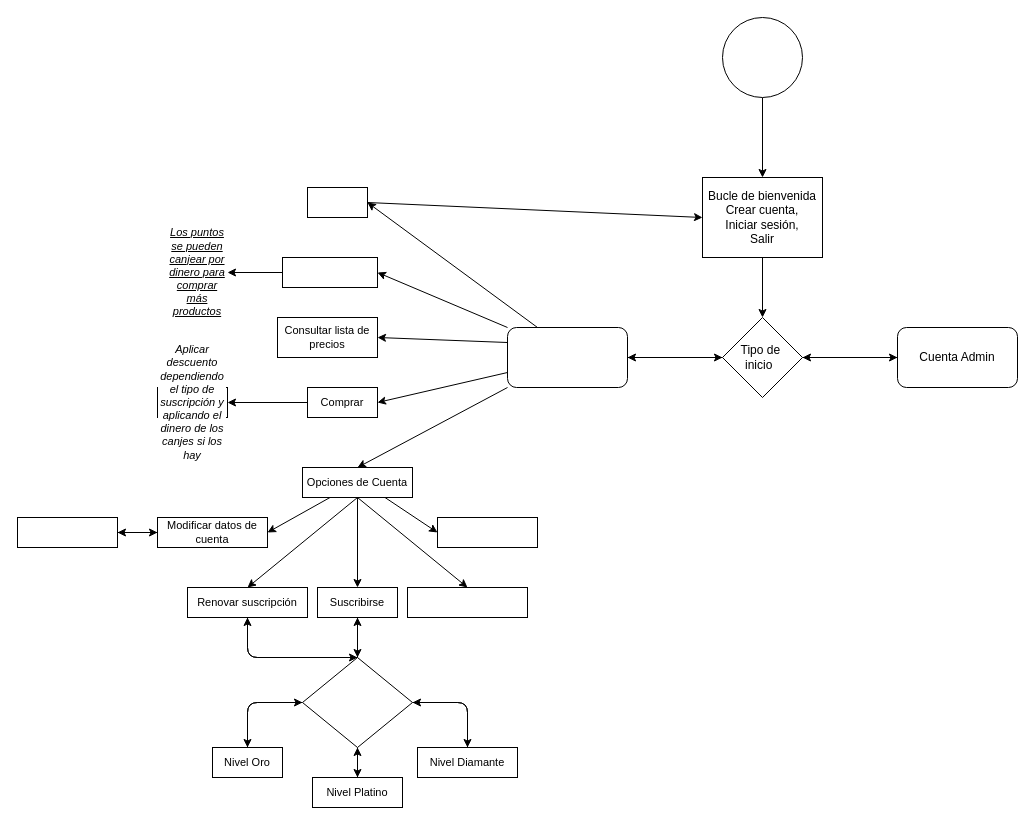
Some shapes in this 1035 by 825 pixel diagram are drawn without their labels. Here are the shapes that lost their labels. From the top down, the centre of each, then its label:
(x=337, y=202): Salir
(x=330, y=272): Canjear Puntos
(x=567, y=357): Cuenta Cliente
(x=67, y=532): Cambio de usuario y/o contraseña
(x=487, y=532): Eliminar cuenta
(x=467, y=602): Cancelar suscripción
(x=357, y=702): Tipo de Suscripción
